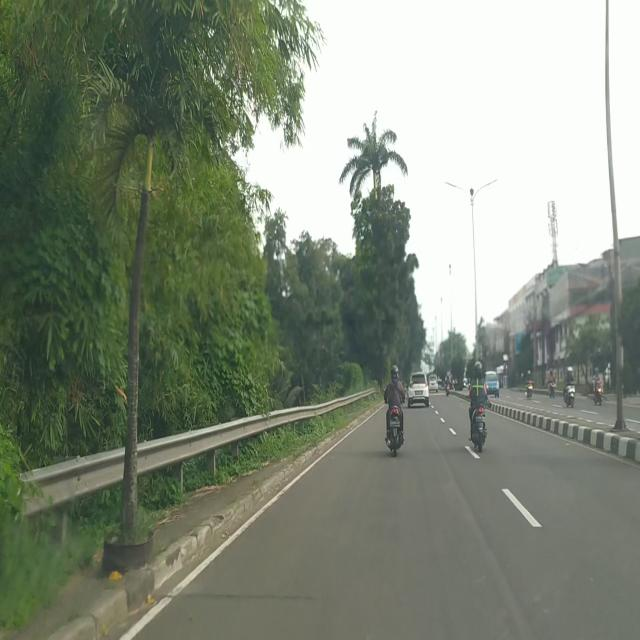Sewer Cover: (166, 588, 316, 602)
